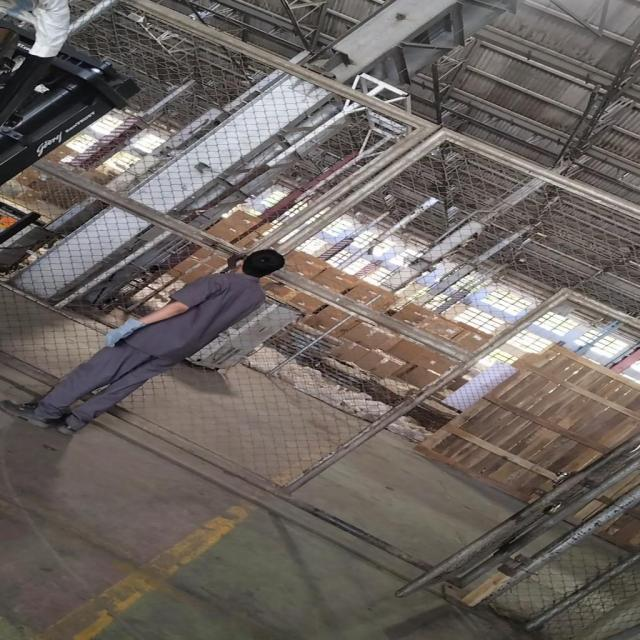Gloves-Detection: (98, 318, 154, 352)
